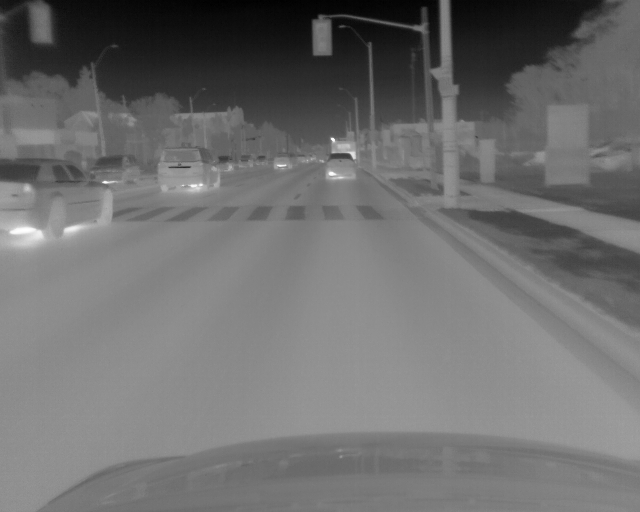car: (1, 158, 115, 240), (156, 147, 222, 193), (593, 137, 640, 174), (93, 154, 140, 184), (324, 153, 356, 181), (331, 137, 357, 162), (274, 152, 296, 171), (216, 155, 235, 172), (238, 154, 253, 170), (255, 154, 268, 167), (297, 152, 307, 165)
